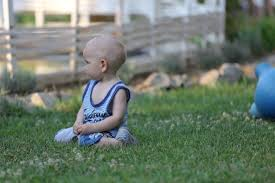child: (56, 37, 141, 153)
